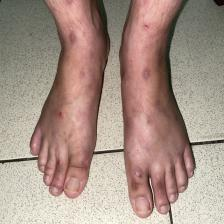DA: (132, 18, 170, 130), (57, 22, 92, 122), (55, 125, 89, 171)
